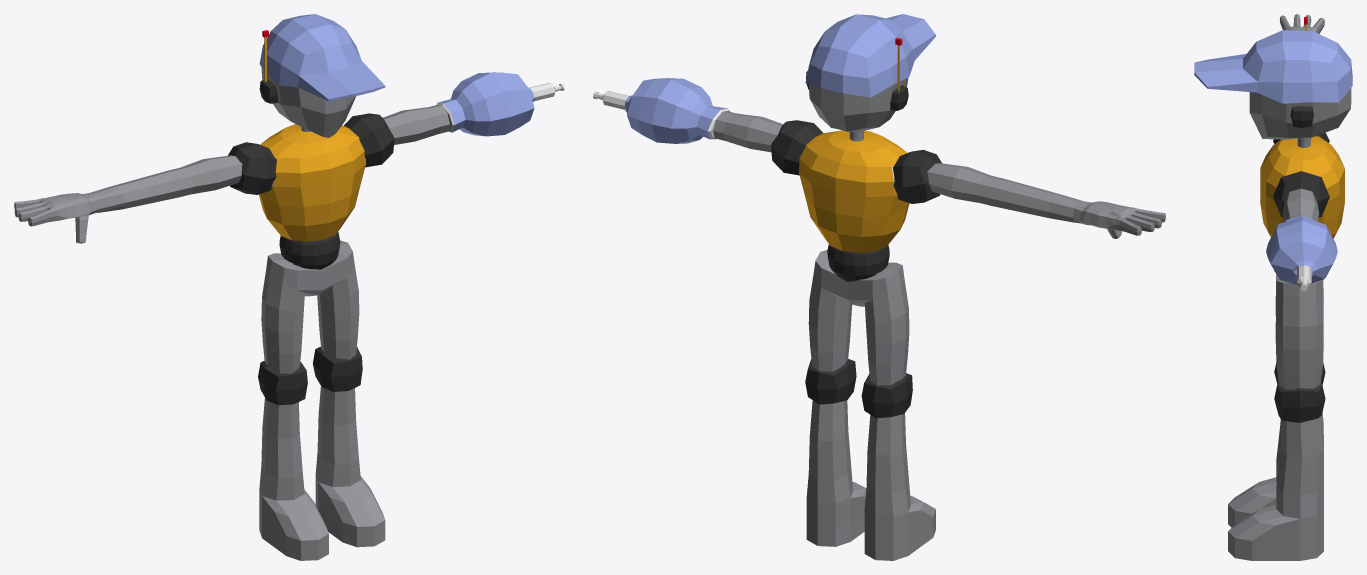
Rendered from Robo.fbx.
The picture shows the model from 3 angles, left to right: view 1: azimuth 30°, elevation 25°; view 2: azimuth 150°, elevation 25°; view 3: azimuth 270°, elevation 25°; orthographic projection. The views are drawn at different scales.
Parts seen in each view (by area): view 1: Personagem; view 2: Personagem; view 3: Personagem, Garrafa.
Part boxes in pixels (left/top/right/bottom): Personagem: left=14, top=14, right=534, bottom=560; Personagem: left=624, top=14, right=1165, bottom=560; Personagem: left=1194, top=14, right=1352, bottom=560; Garrafa: left=1296, top=265, right=1311, bottom=291.
Bounding box in the file's own units: 169 × 149 × 42.58.
